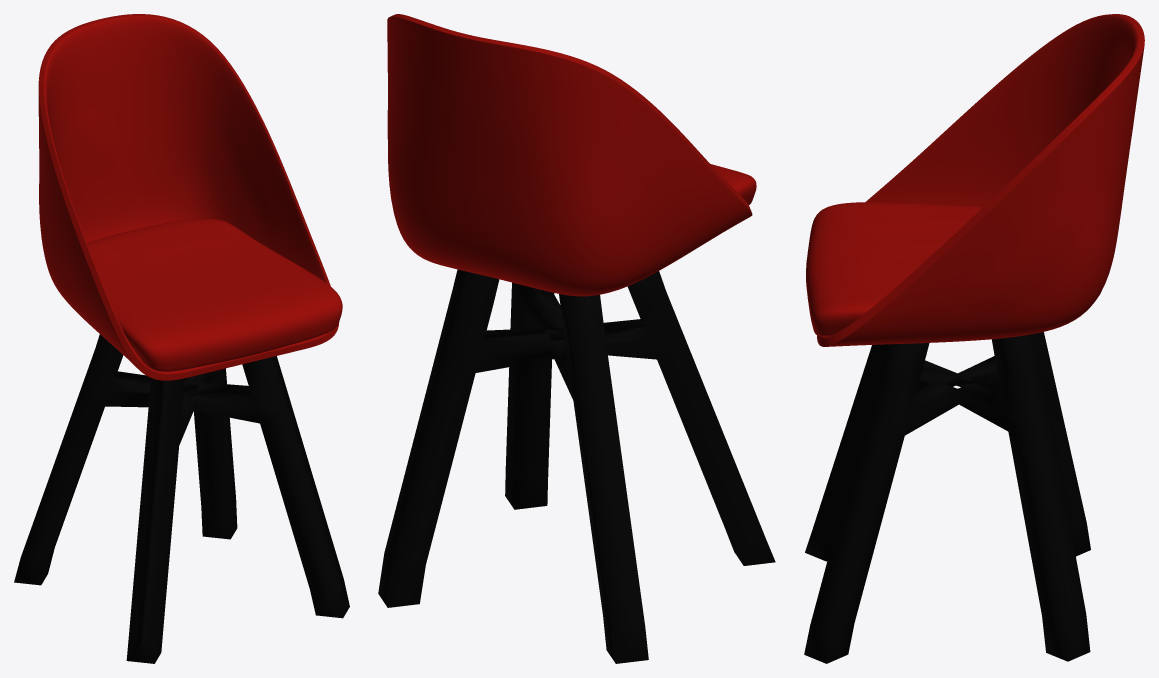
Rendered from chair1.gltf.
The picture shows the model from 3 angles, left to right: view 1: azimuth 30°, elevation 25°; view 2: azimuth 150°, elevation 25°; view 3: azimuth 270°, elevation 25°; orthographic projection. The views are drawn at different scales.
Parts seen in each view (by area): view 1: Cube, Cube.000, Cube.003; view 2: Cube, Cube.000, Cube.003; view 3: Cube, Cube.000, Cube.003.
Part boxes in pixels (x1,y1,x2,y2): Cube: (38,14,339,380); Cube.000: (14,334,349,663); Cube.003: (87,219,342,371); Cube: (387,14,752,296); Cube.000: (378,269,775,663); Cube.003: (710,164,756,204); Cube: (817,14,1144,346); Cube.000: (804,332,1090,663); Cube.003: (806,202,983,336).
Bounding box in the file's own units: 0.4999 × 1.07 × 0.5842.
